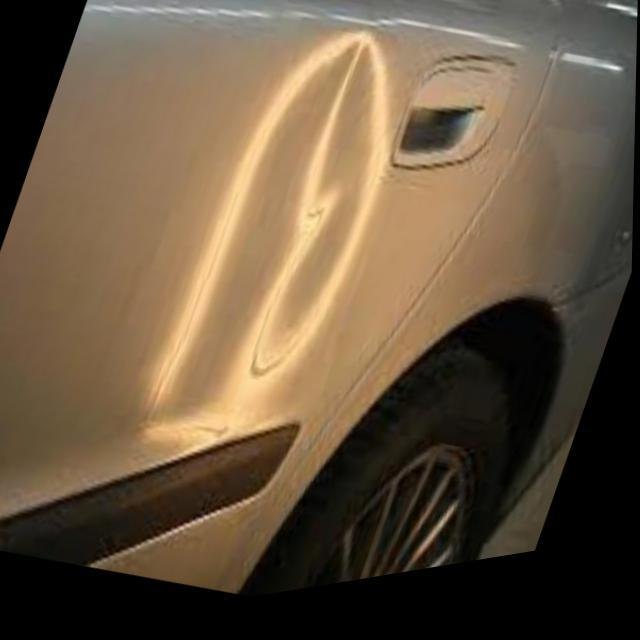dent: (129, 39, 394, 460)
